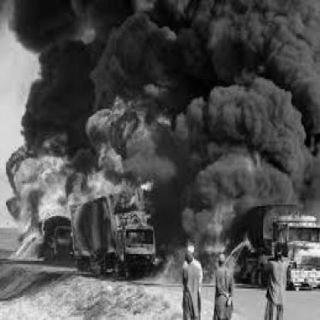Fire: (193, 197, 253, 286)
